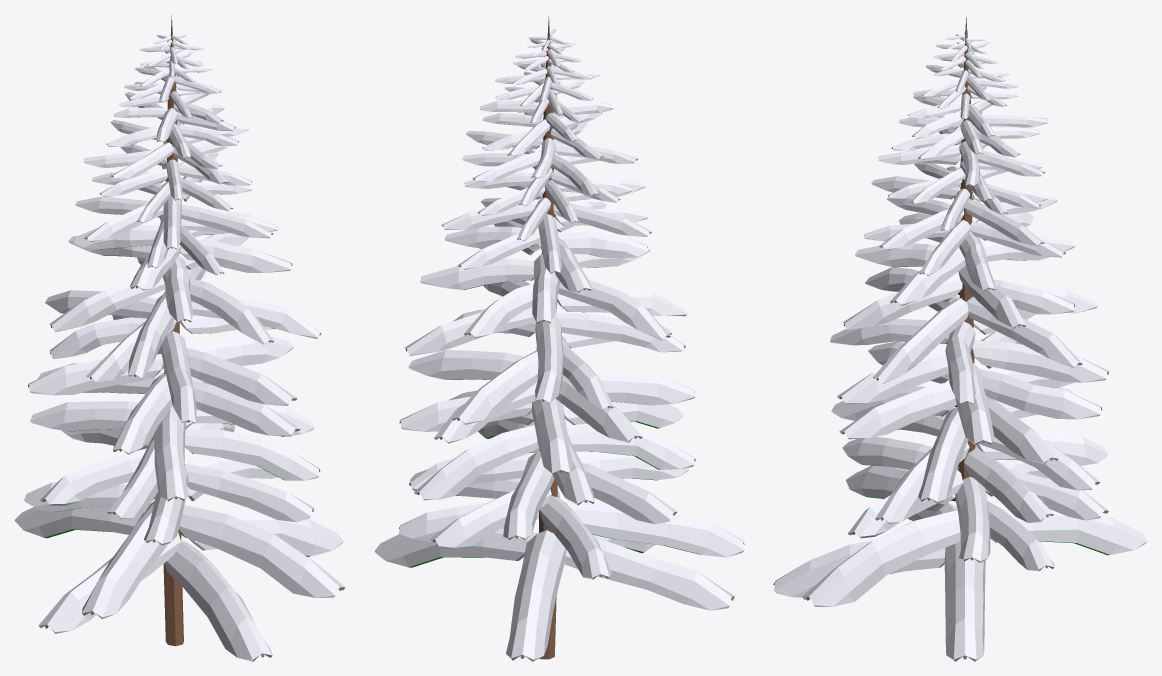
Rendered from Snow Tree.fbx.
The picture shows the model from 3 angles, left to right: view 1: azimuth 30°, elevation 25°; view 2: azimuth 150°, elevation 25°; view 3: azimuth 270°, elevation 25°; orthographic projection. The views are drawn at different scales.
Parts seen in each view (by area): view 1: Cylinder; view 2: Cylinder; view 3: Cylinder.
Boxes of the visible parts, x1,y1,x2,y2 form: Cylinder: [14, 15, 345, 661]; Cylinder: [374, 16, 744, 661]; Cylinder: [773, 17, 1147, 661].
Size of what is drawn, in the model's own units: 377 by 704 by 378.
